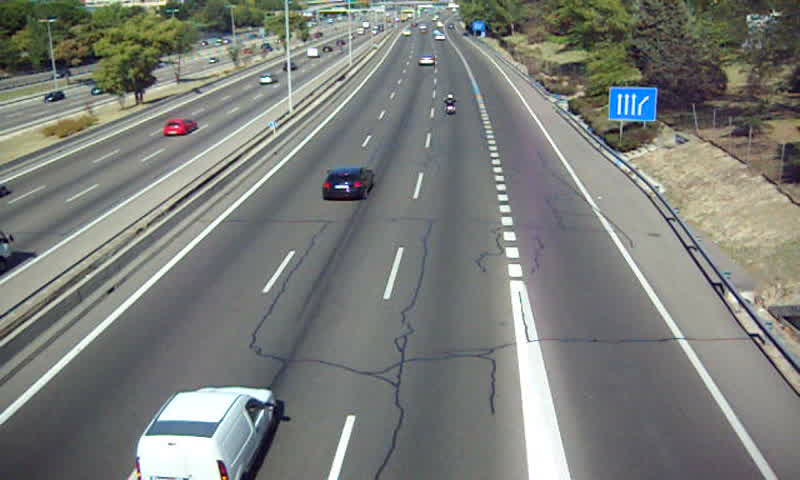car: (323, 167, 374, 200), (418, 56, 435, 68)
motorcycle: (443, 94, 460, 116)
van: (135, 386, 276, 480)
